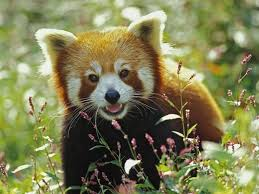redPanda: (30, 18, 203, 141)
